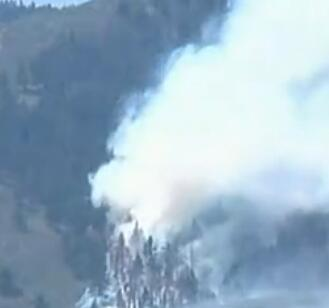yanwu: (84, 5, 328, 262)
